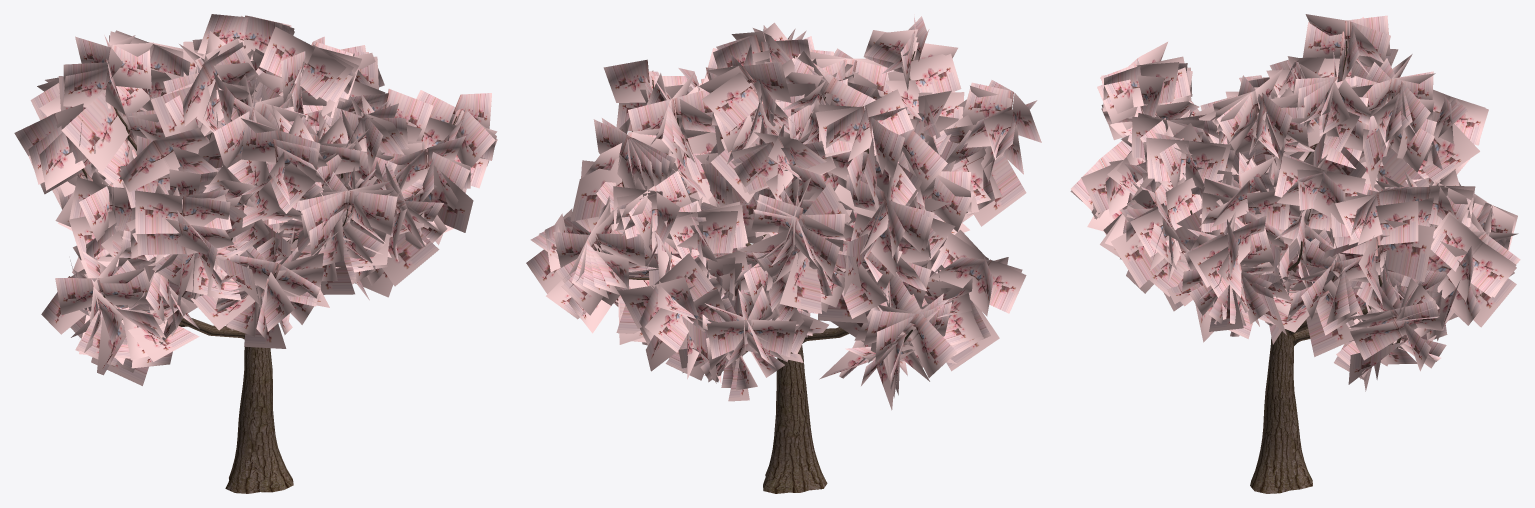
File: sakura-b.glb
3 views of the same model, side by side, from view 1: azimuth 30°, elevation 25°; view 2: azimuth 150°, elevation 25°; view 3: azimuth 270°, elevation 25° (orthographic). The views are drawn at different scales.
Parts seen in each view (by area): view 1: Sakura; view 2: Sakura; view 3: Sakura.
Boxes of the visible parts, x1,y1,x2,y2 form: Sakura: (14,14,497,493); Sakura: (526,14,1041,493); Sakura: (1070,14,1520,493).
Bounding box in the file's own units: 0.4036 × 0.4172 × 0.4016.
2 materials, 2 textured.
